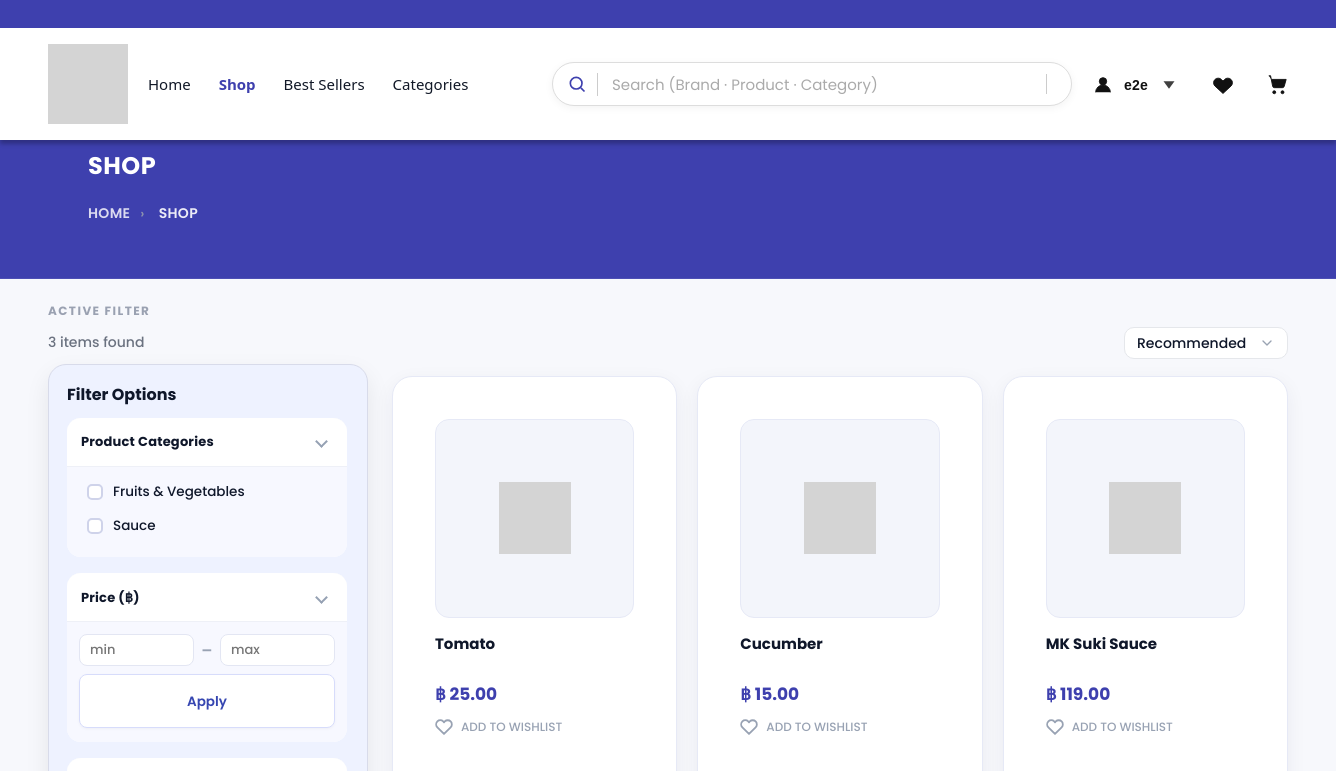
it: Shop Page › wishlist: ปุ่ม "ADD TO WISHLIST" toggle และเก็บ pm_wishlist
The image size is (1336, 771).
Click the text "ADD TO WISHLIST" below "25.00": (512,727) [461,721,562,733]
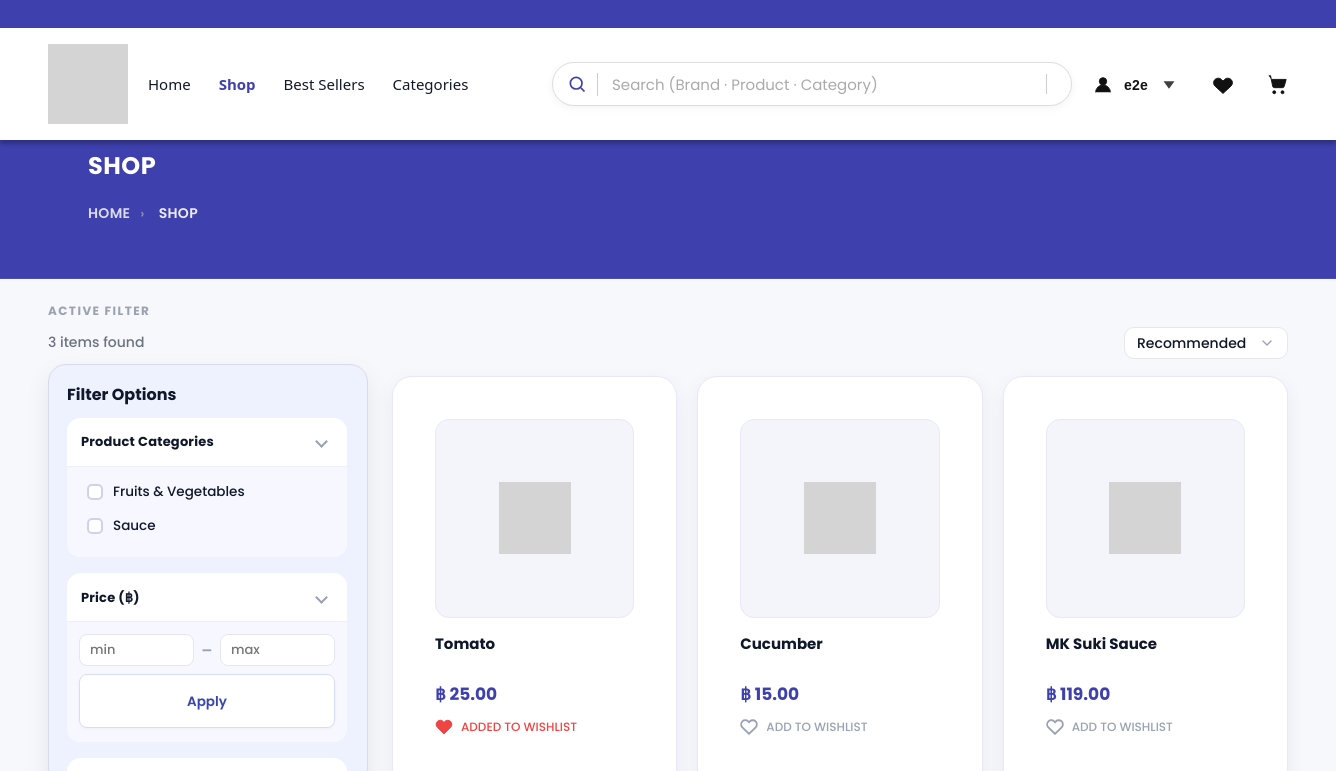
Expected: the text "ADDED TO WISHLIST" is shown, [461,721,577,733]
